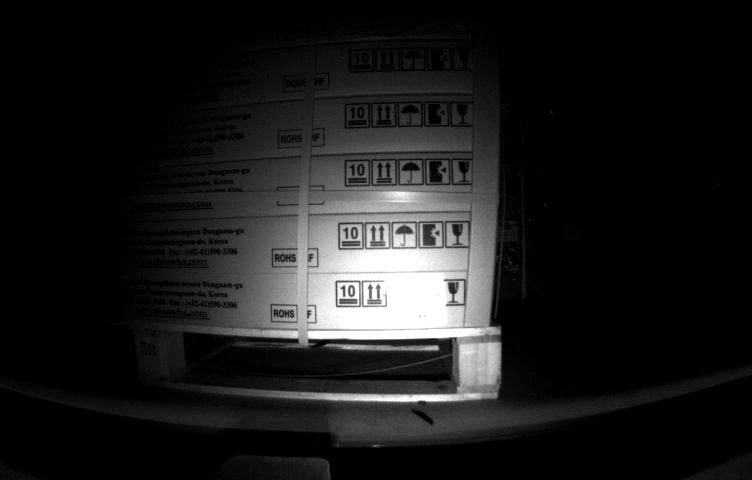True Barcode: (388, 273, 449, 326)
